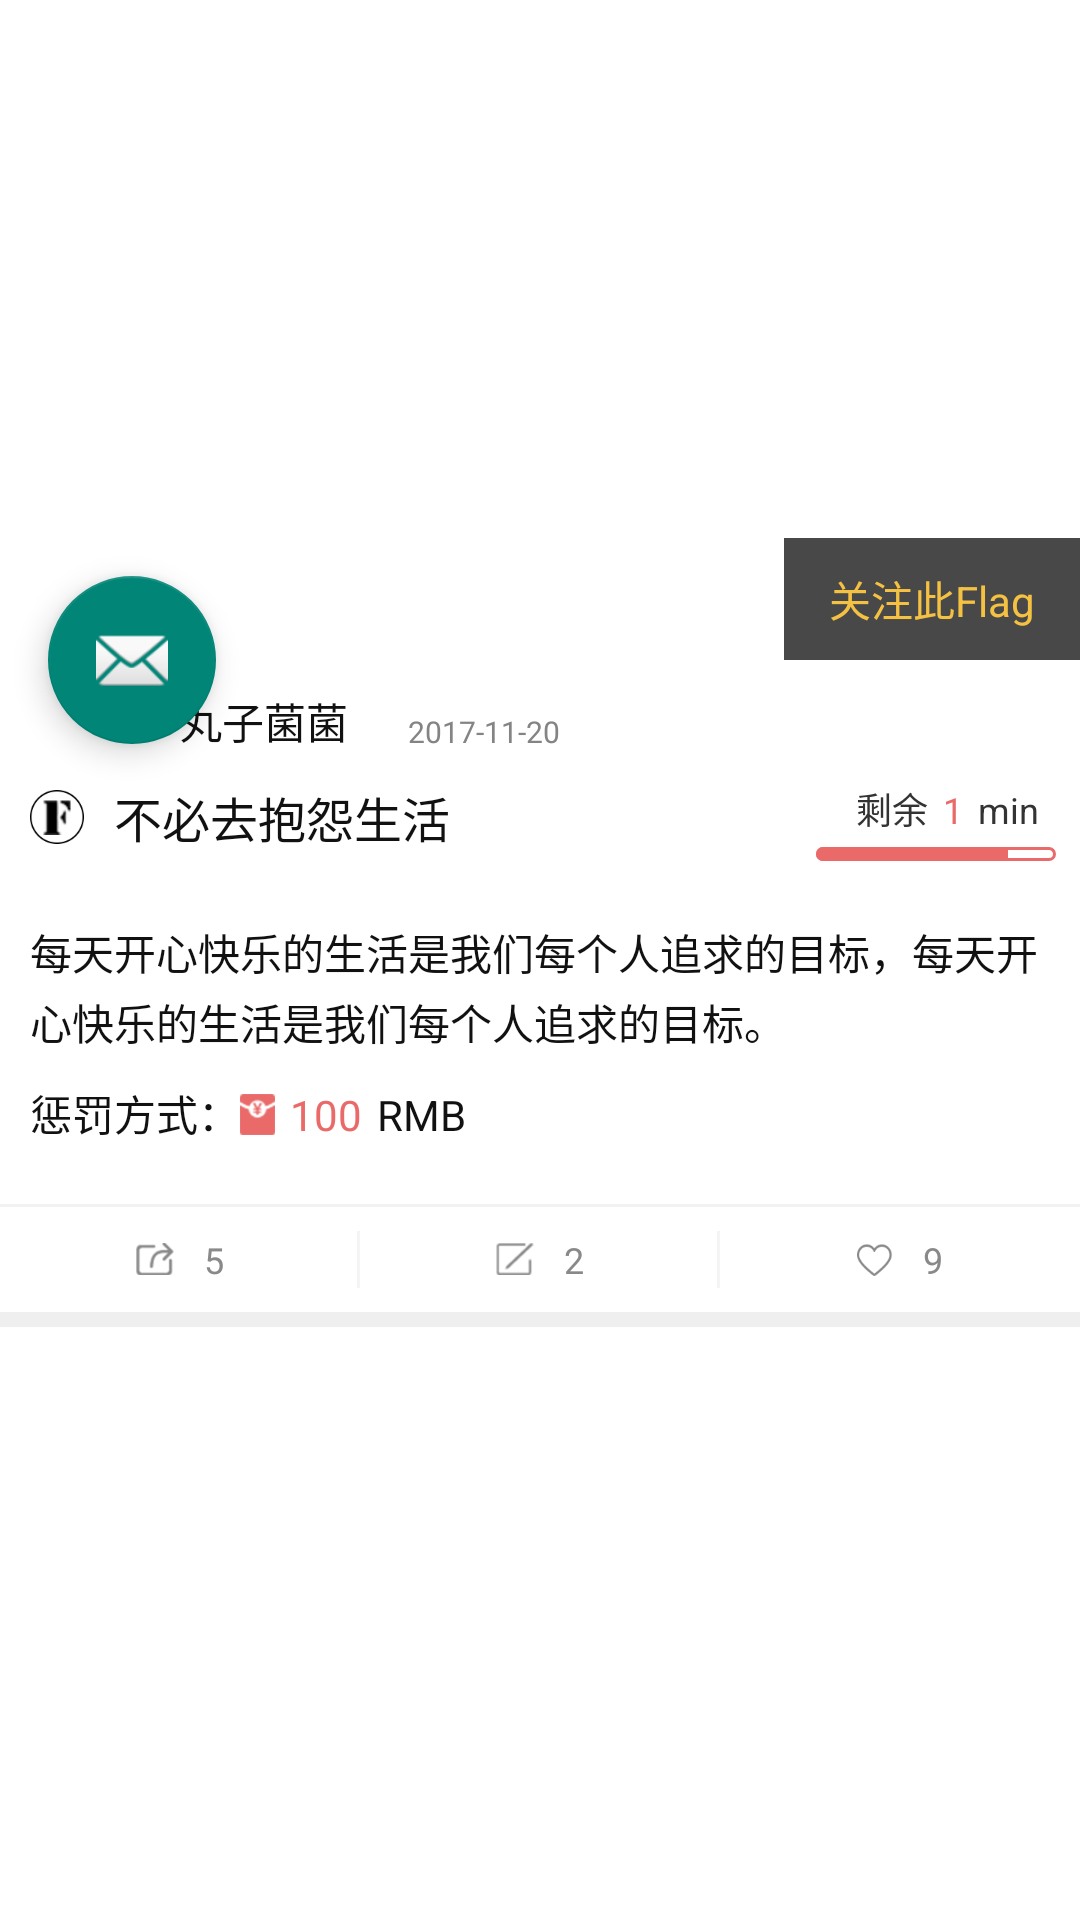

Named icons in this screenshot (1080px x 1920px) and their bounding boxes, box(x1, y1, x2, y2):
dianzan: box(857, 1244, 892, 1276)
email: box(48, 576, 216, 744)
pinglun: box(496, 1243, 533, 1275)
zhuanfa: box(136, 1243, 174, 1275)
